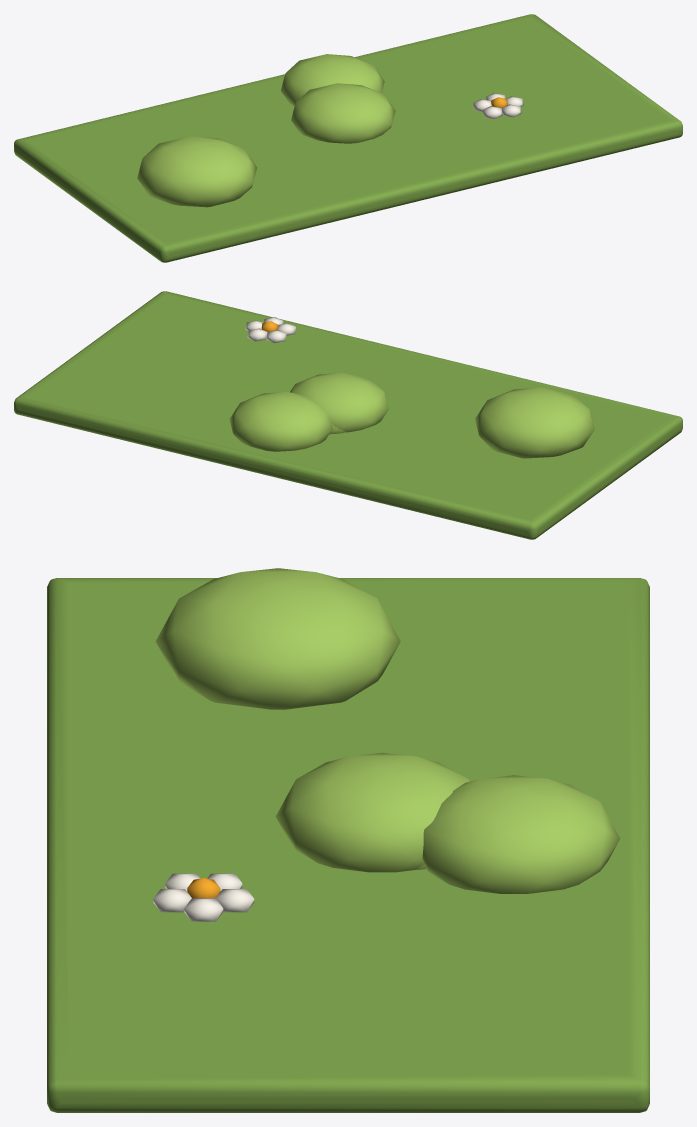
Rendered from rim_edge.glb.
The picture shows the model from 3 angles, top to bottom: view 1: azimuth 30°, elevation 25°; view 2: azimuth 150°, elevation 25°; view 3: azimuth 270°, elevation 25°; orthographic projection. The views are drawn at different scales.
Parts seen in each view (by area): view 1: Rim_Edge; view 2: Rim_Edge; view 3: Rim_Edge.
Part boxes in pixels (left/top/right/bottom): Rim_Edge: left=14, top=14, right=682, bottom=262; Rim_Edge: left=14, top=291, right=682, bottom=539; Rim_Edge: left=47, top=568, right=649, bottom=1112.
Bounding box in the file's own units: 1 × 0.1017 × 0.5.
